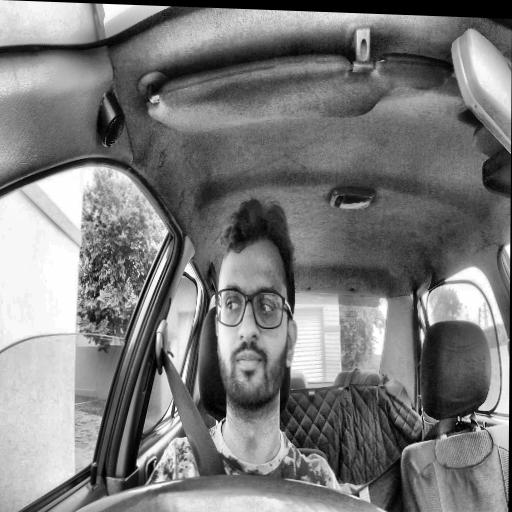awake: (214, 196, 299, 418)
